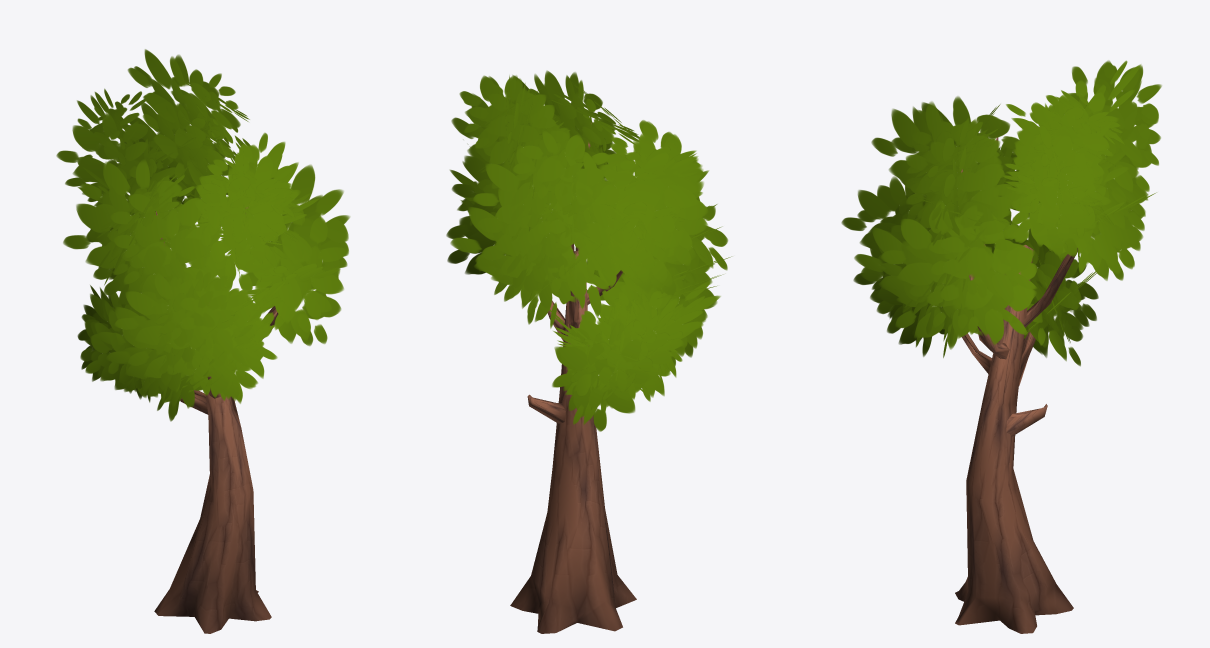
The model's file is broad-4.glb.
The picture shows the model from 3 angles, left to right: view 1: azimuth 30°, elevation 25°; view 2: azimuth 150°, elevation 25°; view 3: azimuth 270°, elevation 25°; orthographic projection. The views are drawn at different scales.
Parts seen in each view (by area): view 1: CommonTree_5; view 2: CommonTree_5; view 3: CommonTree_5.
Boxes of the visible parts, left/top/right/bottom form: CommonTree_5: left=56, top=49, right=349, bottom=633; CommonTree_5: left=446, top=70, right=731, bottom=633; CommonTree_5: left=841, top=60, right=1161, bottom=633.
Size of the model in its own units: 4.22 by 7.3 by 4.31.
2 materials, 2 textured.
